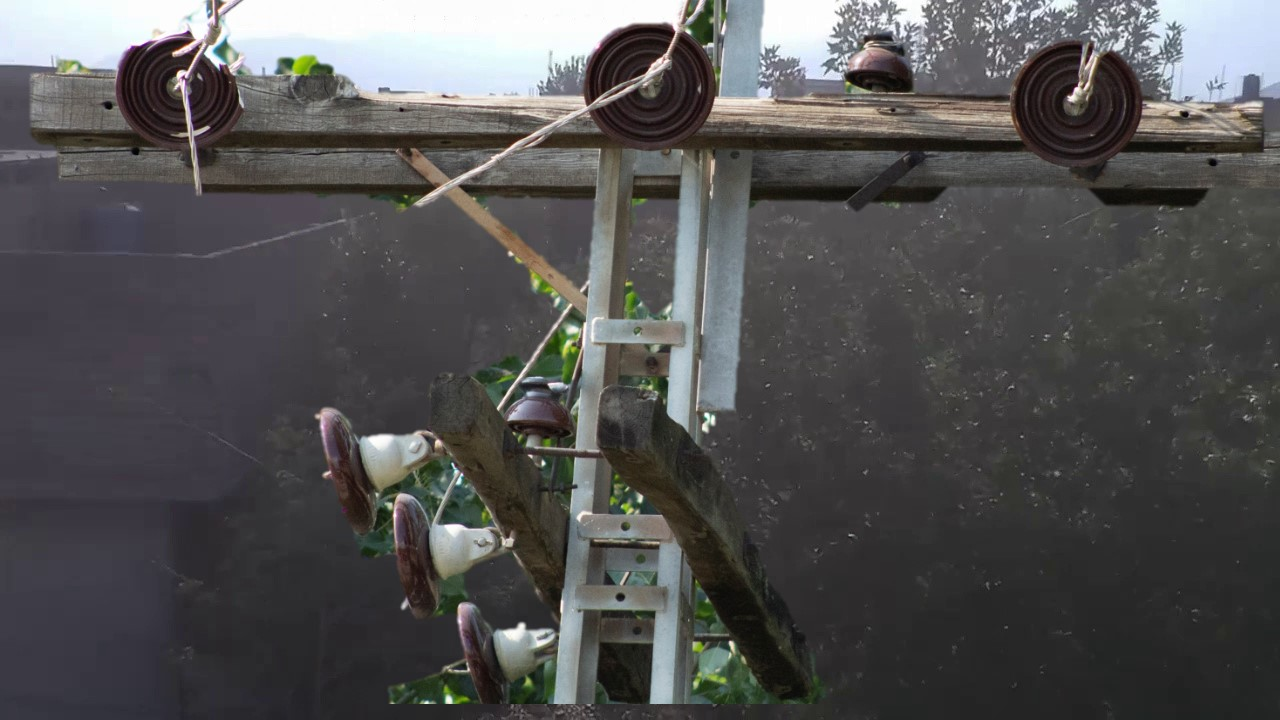defect_disc: (112, 25, 250, 158)
insulator_disc: (1008, 32, 1146, 176), (582, 20, 721, 157), (308, 397, 398, 543), (448, 587, 542, 698), (384, 486, 456, 623)
insulator_pin: (841, 24, 922, 93), (502, 370, 577, 441)
